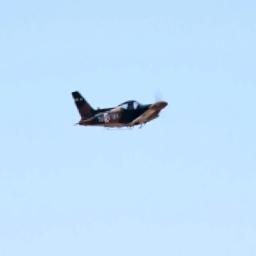Airplane: (69, 90, 168, 129)
